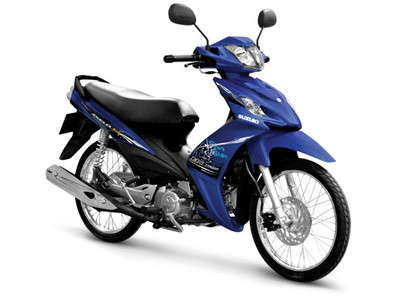motorcycle: (55, 34, 349, 282)
